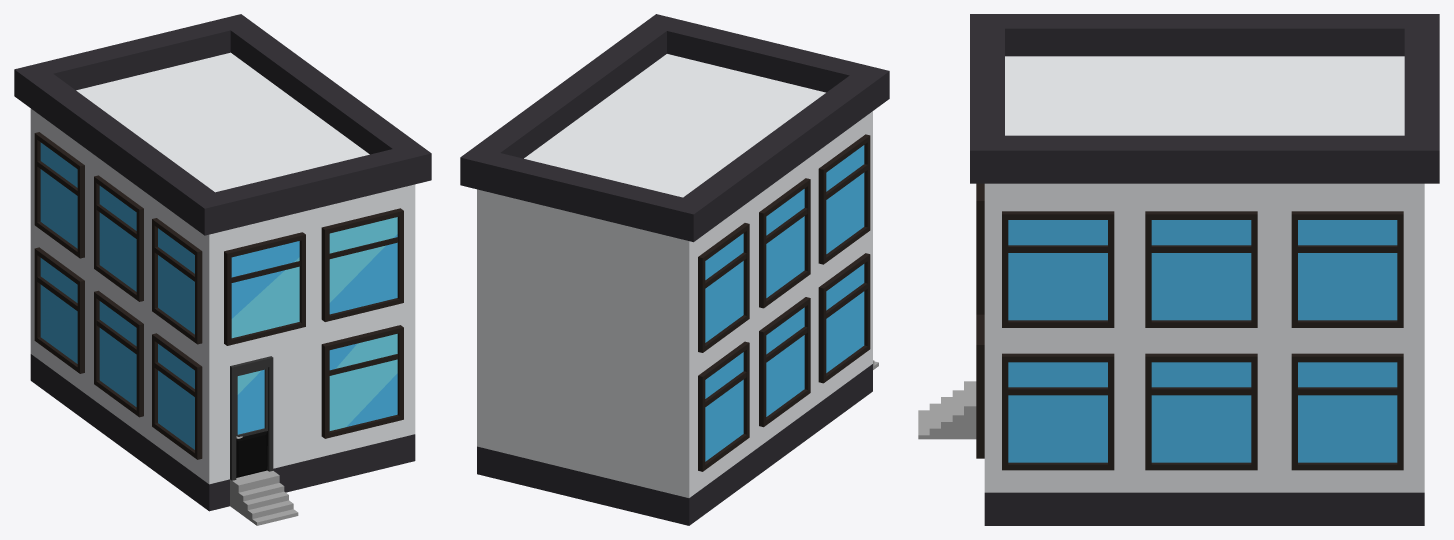
The model's file is Env_CompanyBuilding_02.fbx.
The picture shows the model from 3 angles, left to right: view 1: azimuth 30°, elevation 25°; view 2: azimuth 150°, elevation 25°; view 3: azimuth 270°, elevation 25°; orthographic projection. The views are drawn at different scales.
Parts seen in each view (by area): view 1: Env_CompanyBuilding_02; view 2: Env_CompanyBuilding_02; view 3: Env_CompanyBuilding_02.
Part boxes in pixels (x1,y1,x2,y2): Env_CompanyBuilding_02: (14, 14, 431, 525); Env_CompanyBuilding_02: (460, 14, 889, 525); Env_CompanyBuilding_02: (918, 14, 1439, 525).
Bounding box in the file's own units: 575 × 749 × 927.
